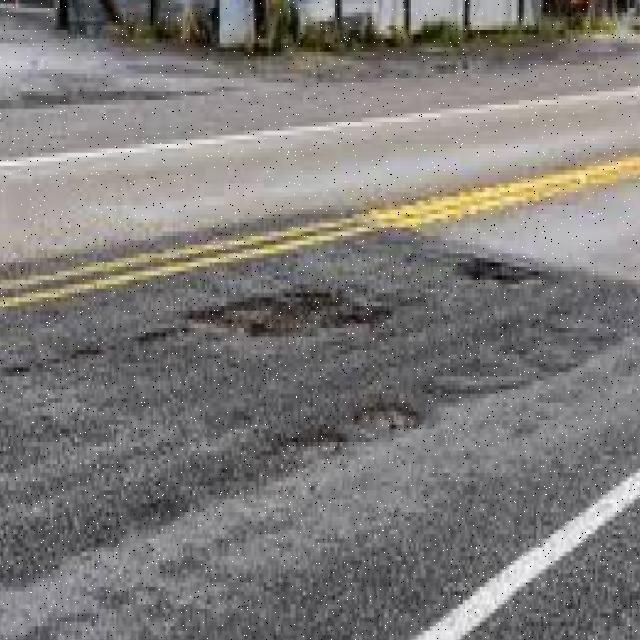pothole: (146, 267, 379, 346), (467, 254, 546, 275)
